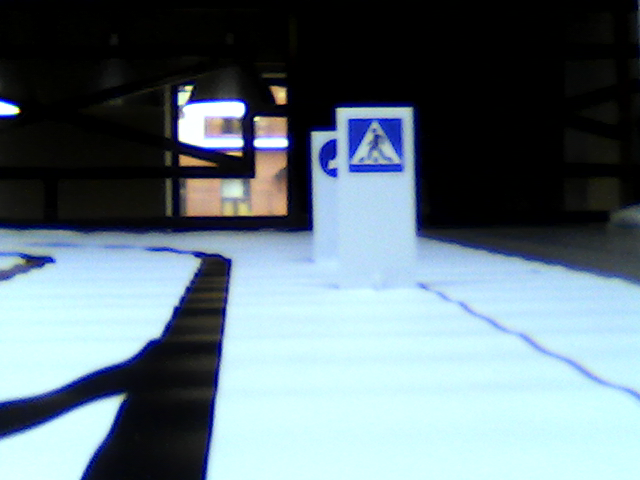pesh: (346, 118, 406, 171)
